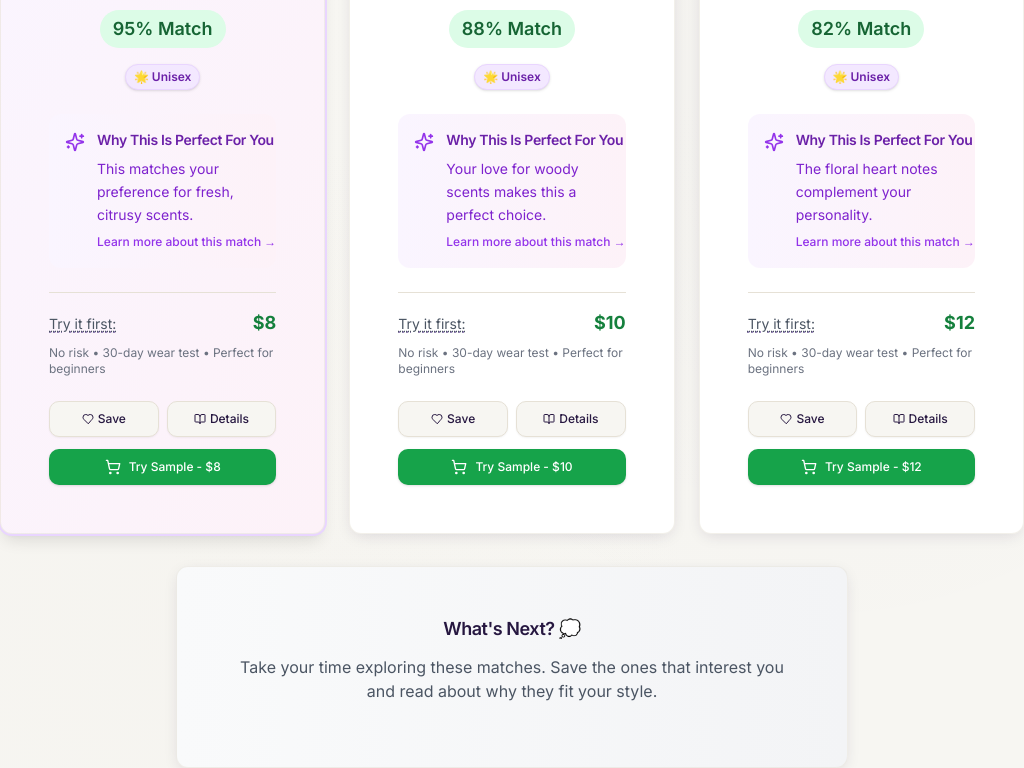
Test case: ResultExploration › Interactive Features › handles saving fragrances correctly
(page scrolled)
Step 1. Click the 1st button "Save" → (104, 419), box [49,401,159,437]
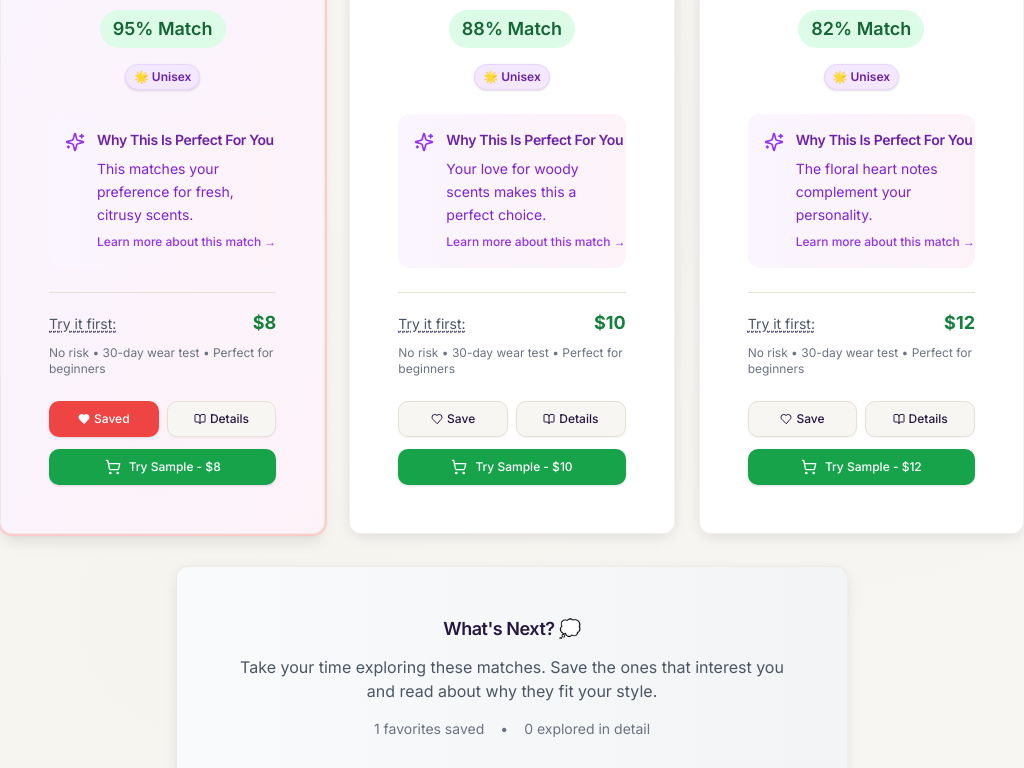
Expected: the button "Saved" is shown, [49,401,159,437]
